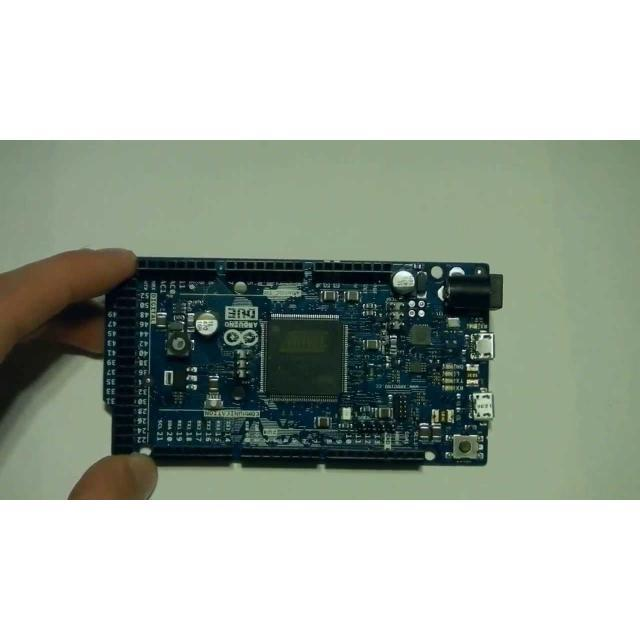Arduino-Due: (104, 258, 504, 468)
